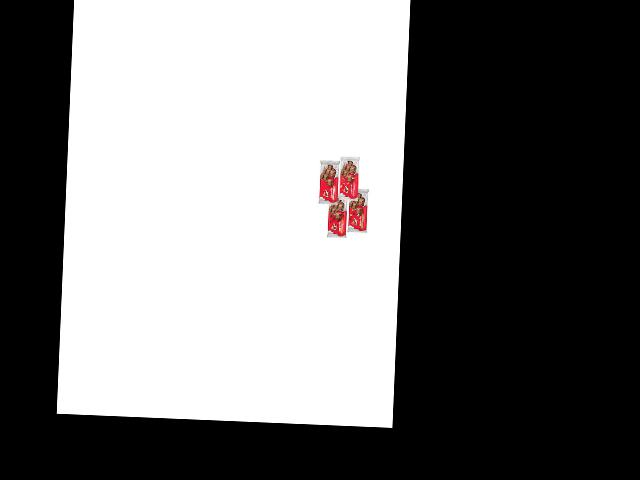chocolate: (343, 185, 371, 236)
